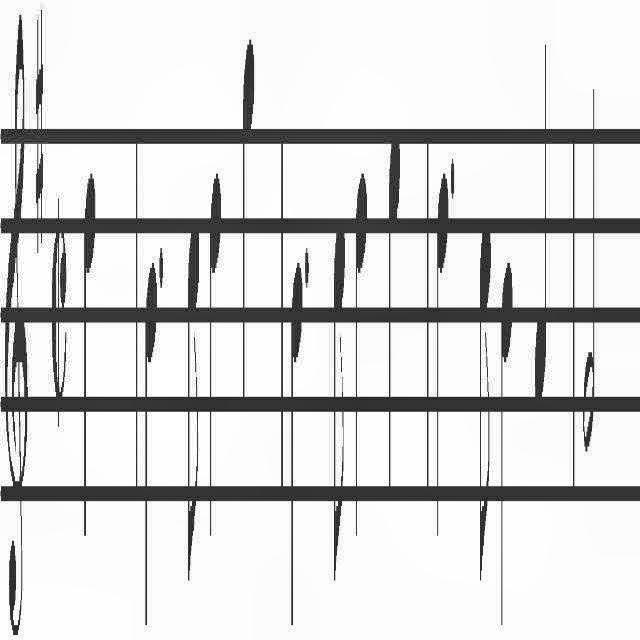Bass-clef: (3, 0, 29, 640)
Diez: (32, 0, 48, 268)
Eighth-note: (330, 177, 348, 631), (476, 181, 492, 603), (186, 197, 202, 606)
Half-note: (582, 64, 598, 480)
Quarter-note: (531, 0, 551, 428), (385, 76, 403, 548), (238, 0, 256, 422), (432, 140, 448, 576), (499, 260, 517, 640), (288, 212, 304, 608), (142, 231, 158, 604), (353, 166, 369, 538), (81, 156, 95, 556), (208, 166, 222, 550)
